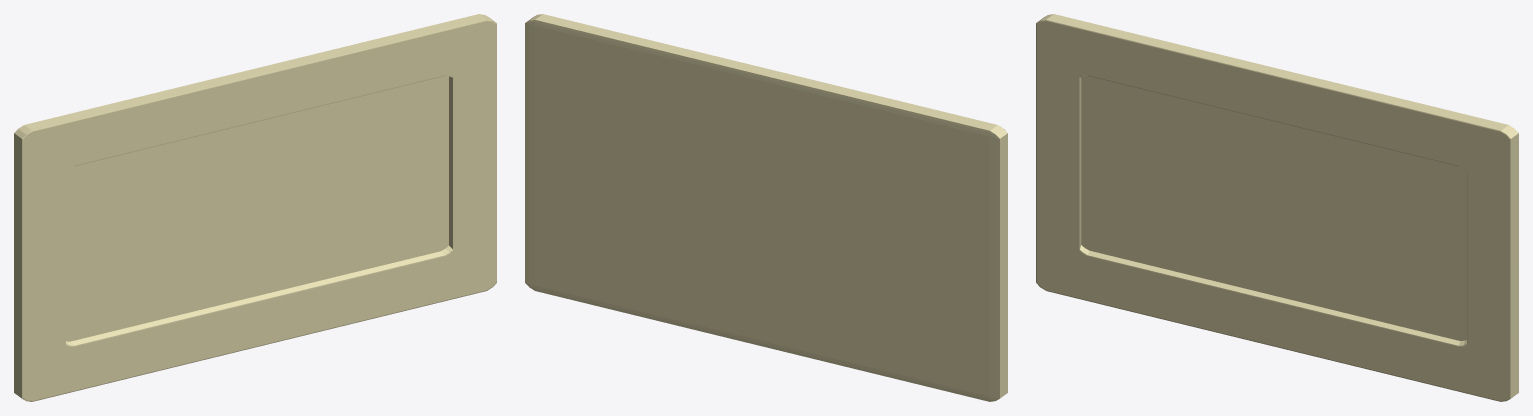
Rendered from PICTUR.gltf.
The picture shows the model from 3 angles, left to right: view 1: azimuth 30°, elevation 25°; view 2: azimuth 150°, elevation 25°; view 3: azimuth 330°, elevation 25°; orthographic projection.
Visible parts, largest first — view 1: PICTUR; view 2: PICTUR; view 3: PICTUR.
Part boxes in pixels (bbox=[...]): PICTUR: bbox=[14, 14, 496, 401]; PICTUR: bbox=[525, 14, 1007, 401]; PICTUR: bbox=[1036, 14, 1518, 401].
Bounding box in the file's own units: 1.32 × 0.7204 × 0.0404.
